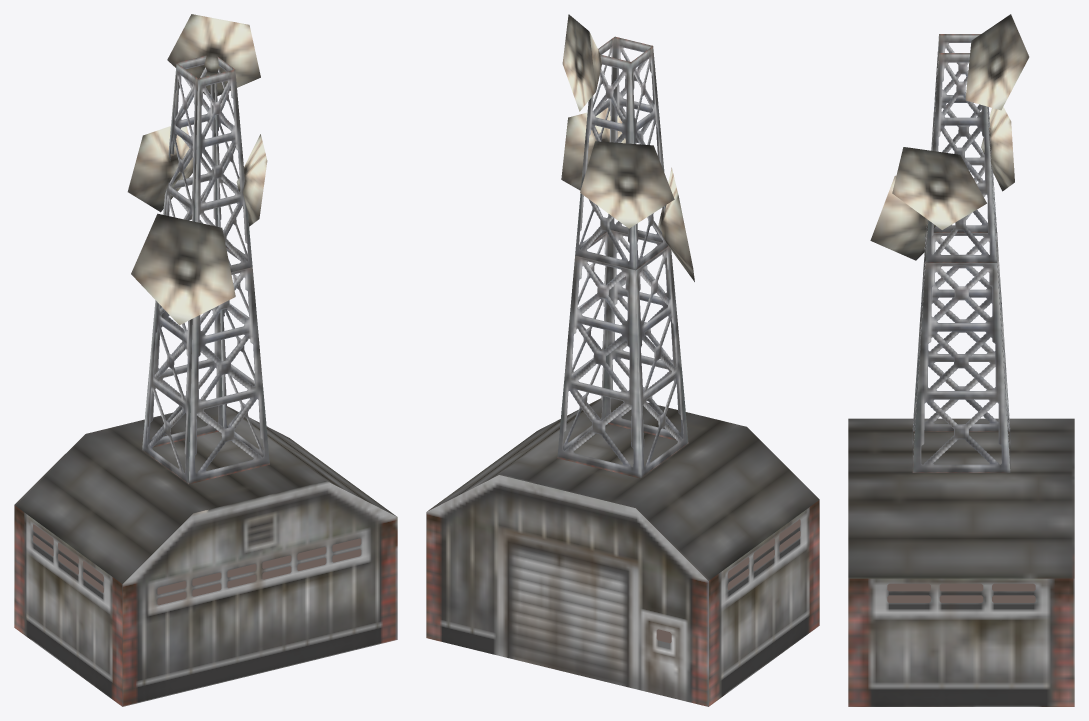
The model's file is relaystation.glb.
3 views of the same model, side by side, from view 1: azimuth 30°, elevation 25°; view 2: azimuth 150°, elevation 25°; view 3: azimuth 270°, elevation 25° (orthographic). The views are drawn at different scales.
Parts seen in each view (by area): view 1: RelayStation, LitWin_RelayStation; view 2: RelayStation, LitWin_RelayStation; view 3: RelayStation, LitWin_RelayStation.
Boxes of the visible parts, x1,y1,x2,y2 form: RelayStation: (14, 14, 397, 706); LitWin_RelayStation: (33, 524, 361, 605); RelayStation: (426, 14, 819, 706); LitWin_RelayStation: (656, 519, 800, 643); RelayStation: (848, 14, 1074, 706); LitWin_RelayStation: (887, 583, 1035, 602).
Size of the model in its own units: 8.15 by 16.98 by 5.55.
1 material, 1 textured.
